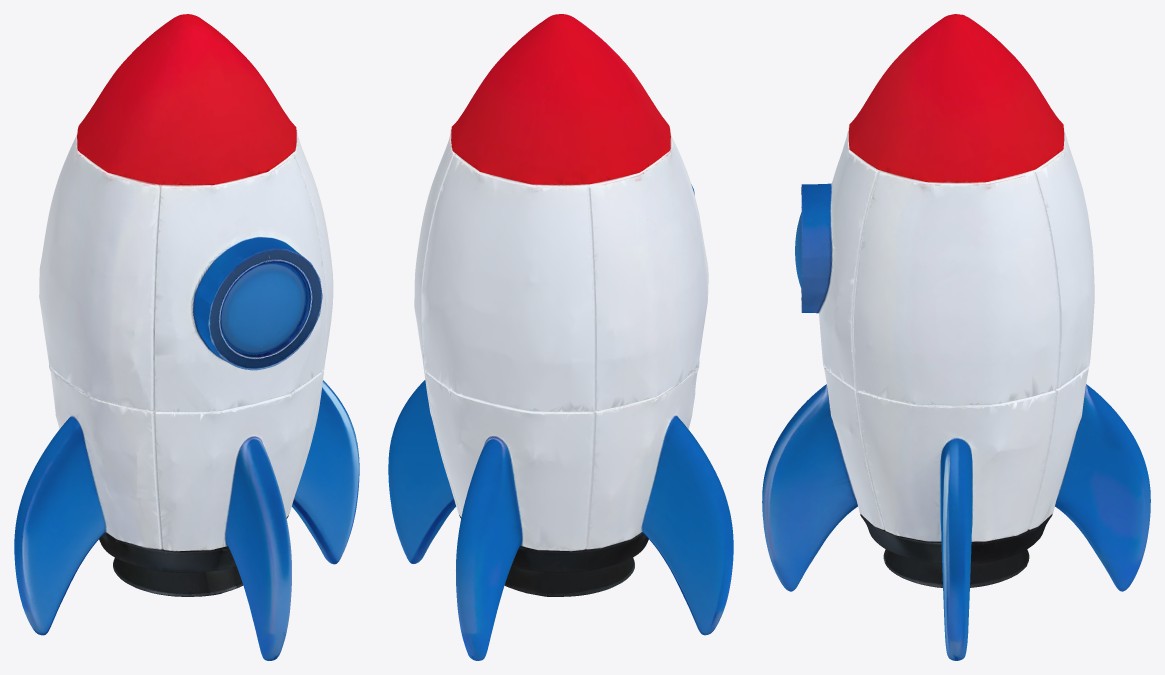
The model's file is Razzo.glb.
3 renders of one model, left to right at view 1: azimuth 30°, elevation 25°; view 2: azimuth 150°, elevation 25°; view 3: azimuth 270°, elevation 25°, orthographic.
Size of the model in its own units: 1.16 by 1.9 by 1.16.
Materials: 1 (1 with a texture image).
